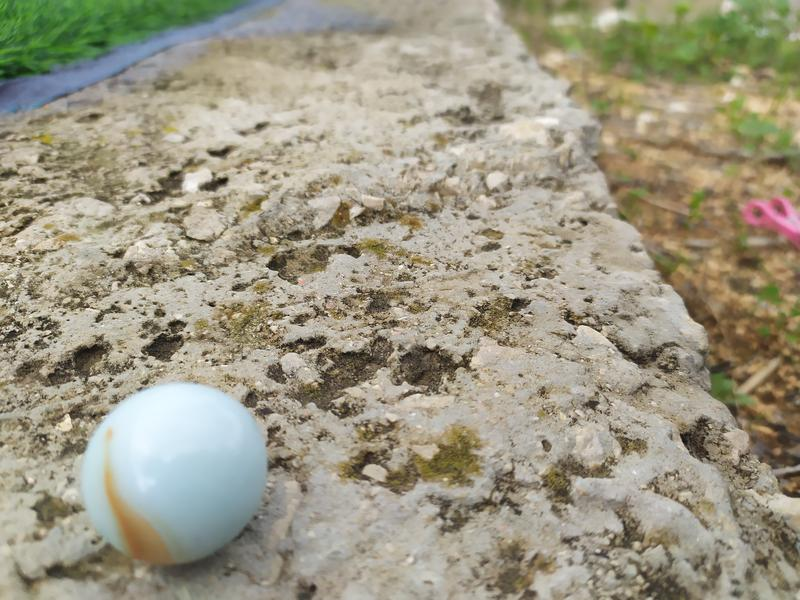Warning: (76, 377, 272, 574)
